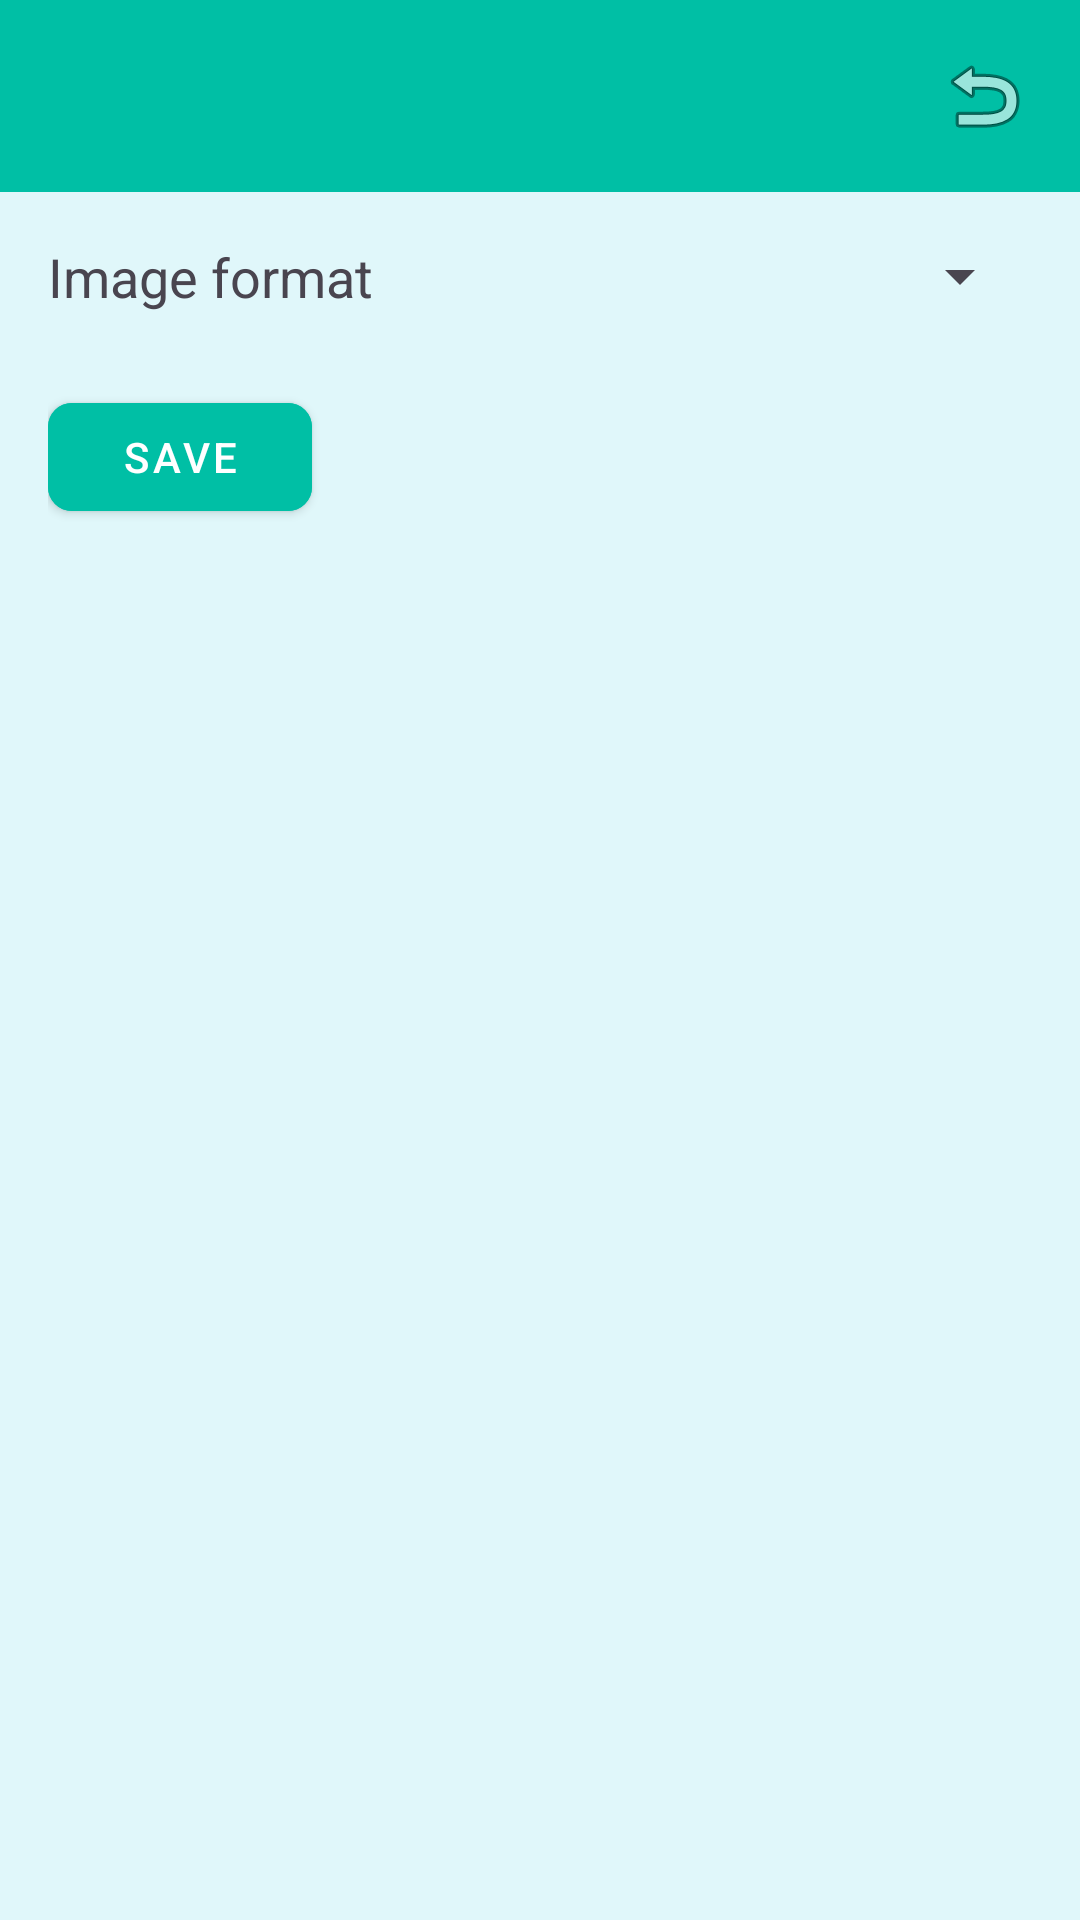

Icon click points for this 1080×1920 phone screenshot, format point (x, y):
Back: point (985, 96)
